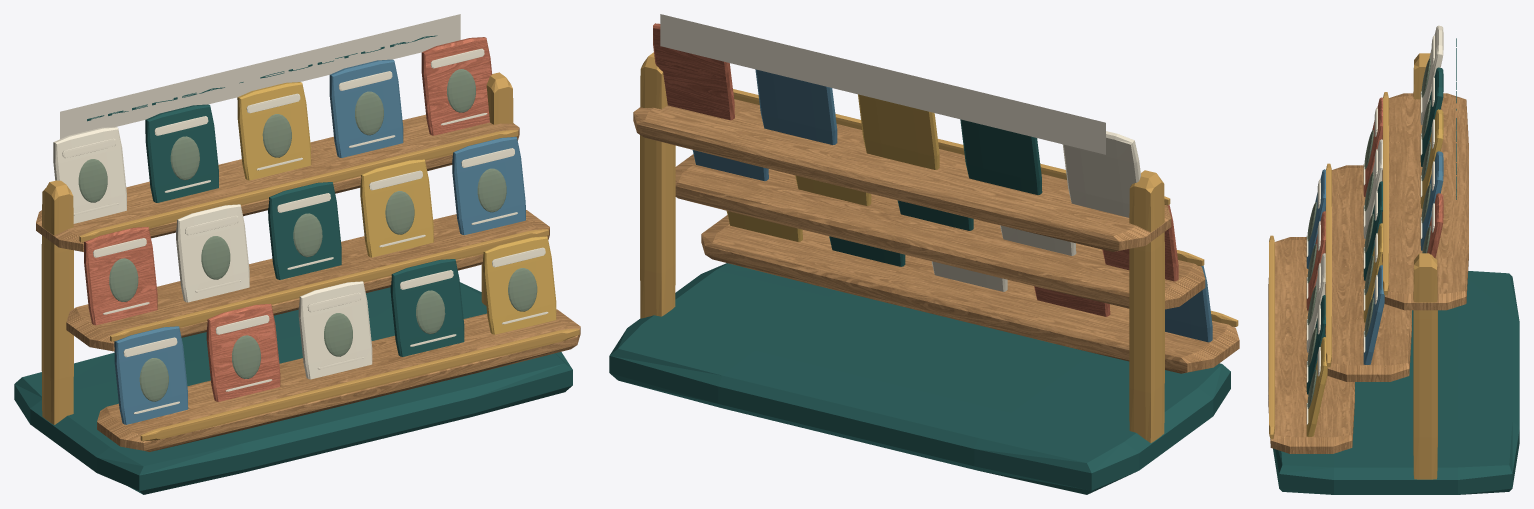
The model's file is hiperreal-hd.glb.
The picture shows the model from 3 angles, left to right: view 1: azimuth 30°, elevation 25°; view 2: azimuth 150°, elevation 25°; view 3: azimuth 270°, elevation 25°; orthographic projection. The views are drawn at different scales.
Parts seen in each view (by area): view 1: Native component 1, Native component 10, Native component 16, Native component 5, Native component 49, Native component 13, Native component 67, Native component 64, Native component 0; view 2: Native component 1, Native component 10, Native component 5, Native component 0, Native component 13, Native component 16, Native component 64, Native component 67; view 3: Native component 10, Native component 1, Native component 5, Native component 16, Native component 49, Native component 67, Native component 13, Native component 64.
Part boxes in pixels (left/top/right/bottom): Native component 1: left=14, top=104, right=572, bottom=494; Native component 10: left=36, top=114, right=580, bottom=451; Native component 16: left=53, top=48, right=548, bottom=414; Native component 5: left=41, top=72, right=579, bottom=441; Native component 49: left=78, top=69, right=537, bottom=401; Native component 13: left=114, top=59, right=525, bottom=424; Native component 67: left=237, top=82, right=556, bottom=334; Native component 64: left=84, top=37, right=492, bottom=401; Native component 0: left=60, top=14, right=460, bottom=138; Native component 1: left=609, top=119, right=1230, bottom=494; Native component 10: left=633, top=99, right=1239, bottom=373; Native component 5: left=640, top=52, right=1238, bottom=442; Native component 0: left=660, top=14, right=1105, bottom=154; Native component 13: left=692, top=69, right=1212, bottom=342; Native component 16: left=931, top=131, right=1140, bottom=291; Native component 64: left=653, top=23, right=1178, bottom=316; Native component 67: left=726, top=94, right=939, bottom=241; Native component 10: left=1268, top=93, right=1468, bottom=453; Native component 1: left=1273, top=67, right=1519, bottom=494; Native component 5: left=1268, top=53, right=1437, bottom=479; Native component 16: left=1306, top=25, right=1443, bottom=424; Native component 49: left=1307, top=58, right=1430, bottom=408; Native component 67: left=1306, top=109, right=1443, bottom=436; Native component 13: left=1306, top=151, right=1443, bottom=364; Native component 64: left=1306, top=97, right=1443, bottom=310.
Bounding box in the file's own units: 2 × 1.3 × 1.01.
10 materials, 2 textured.
